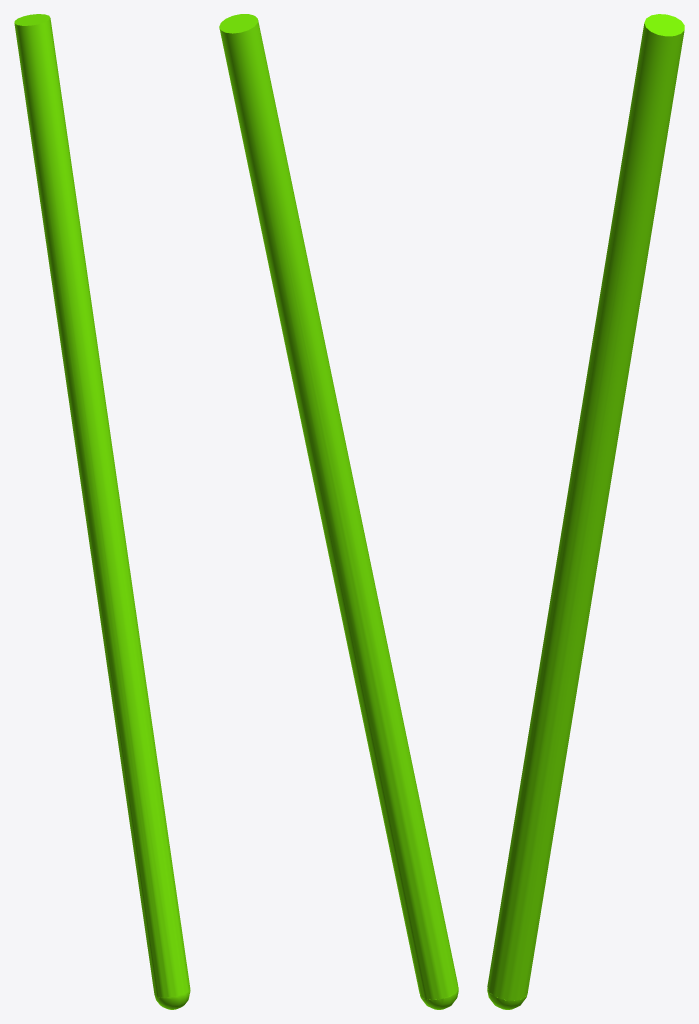
Rendered from chair_026_04.obj.
3 renders of one model, left to right at view 1: azimuth 90°, elevation 25°; view 2: azimuth 150°, elevation 25°; view 3: azimuth 270°, elevation 25°, orthographic. The views are drawn at different scales.
Bounding box in the file's own units: 121 × 739 × 126.
